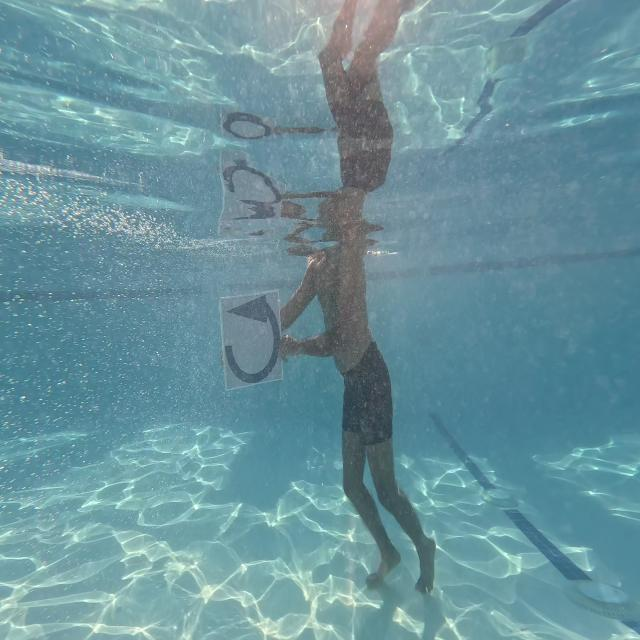blue_side: (218, 288, 284, 392)
